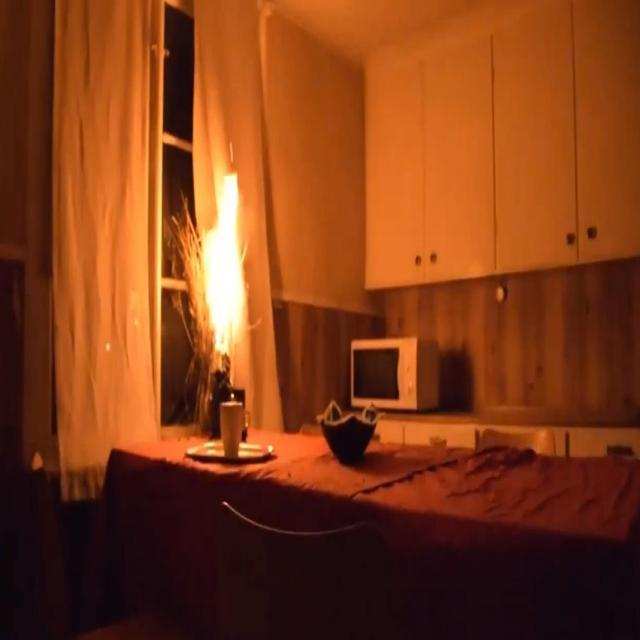smoke: (196, 156, 263, 366)
